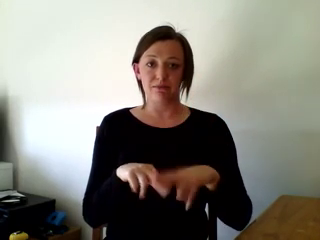F: (114, 158, 215, 211)
